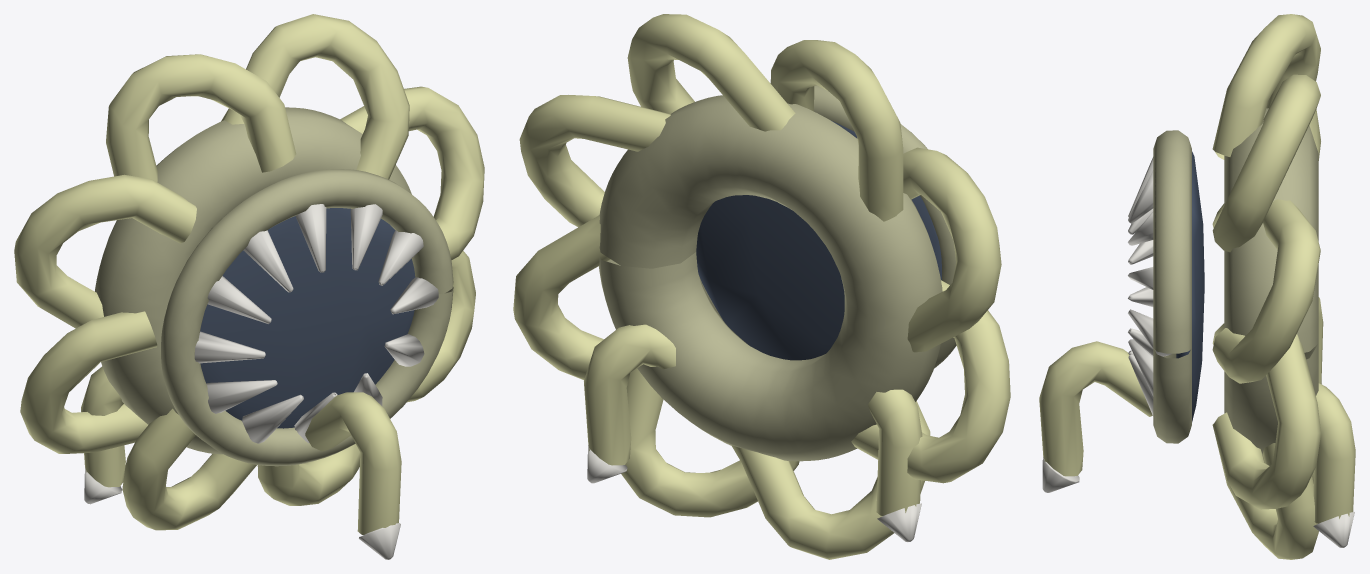
Rendered from bio_spiral_maw_04_far.glb.
The picture shows the model from 3 angles, left to right: view 1: azimuth 30°, elevation 25°; view 2: azimuth 150°, elevation 25°; view 3: azimuth 270°, elevation 25°; orthographic projection. The views are drawn at different scales.
Parts seen in each view (by area): view 1: Recessed mouth cavity, Raised oral lip, Rear muscular torus, Inward tooth, Coiling oral limb.002, Coiling oral limb.003, Coiling oral limb.001, Coiling oral limb.004, Coiling oral limb.005, Coiling oral limb, Crooked support.002, Coiling oral limb.006 (+4 smaller); view 2: Rear muscular torus, Recessed mouth cavity, Coiling oral limb.003, Coiling oral limb.002, Coiling oral limb.001, Coiling oral limb, Coiling oral limb.004, Coiling oral limb.007, Coiling oral limb.005, Coiling oral limb.006, Crooked support, Crooked support.001 (+3 smaller); view 3: Rear muscular torus, Raised oral lip, Coiling oral limb.007, Coiling oral limb, Coiling oral limb.001, Crooked support.002, Coiling oral limb.002, Crooked support, Inward tooth, Coiling oral limb.006, Recessed mouth cavity, Contact spur (+1 smaller).
Part boxes in pixels (x1=…): Recessed mouth cavity: x1=200, y1=208, x2=415, y2=428; Raised oral lip: x1=161, y1=169, x2=453, y2=466; Rear muscular torus: x1=95, y1=107, x2=411, y2=454; Inward tooth: x1=194, y1=204, x2=438, y2=443; Coiling oral limb.002: x1=106, y1=54, x2=296, y2=181; Coiling oral limb.003: x1=14, y1=174, x2=196, y2=328; Coiling oral limb.001: x1=221, y1=14, x2=409, y2=179; Coiling oral limb.004: x1=20, y1=311, x2=157, y2=453; Coiling oral limb.005: x1=122, y1=408, x2=256, y2=530; Coiling oral limb: x1=340, y1=86, x2=484, y2=260; Crooked support.002: x1=305, y1=392, x2=401, y2=534; Coiling oral limb.006: x1=257, y1=444, x2=360, y2=505; Rear muscular torus: x1=599, y1=95, x2=942, y2=461; Recessed mouth cavity: x1=696, y1=120, x2=941, y2=360; Coiling oral limb.003: x1=903, y1=147, x2=1001, y2=352; Coiling oral limb.002: x1=770, y1=40, x2=903, y2=221; Coiling oral limb.001: x1=627, y1=14, x2=795, y2=131; Coiling oral limb: x1=519, y1=95, x2=670, y2=227; Coiling oral limb.004: x1=851, y1=280, x2=1010, y2=483; Coiling oral limb.007: x1=513, y1=215, x2=610, y2=379; Coiling oral limb.005: x1=732, y1=401, x2=930, y2=559; Coiling oral limb.006: x1=621, y1=368, x2=799, y2=517; Crooked support: x1=584, y1=324, x2=675, y2=465; Crooked support.001: x1=868, y1=389, x2=922, y2=515; Rear muscular torus: x1=1224, y1=108, x2=1318, y2=453; Raised oral lip: x1=1153, y1=130, x2=1191, y2=443; Coiling oral limb.007: x1=1212, y1=334, x2=1320, y2=509; Coiling oral limb: x1=1212, y1=199, x2=1320, y2=383; Coiling oral limb.001: x1=1212, y1=74, x2=1320, y2=252; Crooked support.002: x1=1039, y1=341, x2=1152, y2=476; Coiling oral limb.002: x1=1212, y1=14, x2=1320, y2=156; Crooked support: x1=1313, y1=383, x2=1355, y2=523; Inward tooth: x1=1128, y1=157, x2=1171, y2=416; Coiling oral limb.006: x1=1212, y1=424, x2=1318, y2=559; Recessed mouth cavity: x1=1176, y1=151, x2=1204, y2=421; Contact spur: x1=1313, y1=512, x2=1354, y2=547.
Size of the model in its own units: 2.42 by 2.42 by 1.48.
